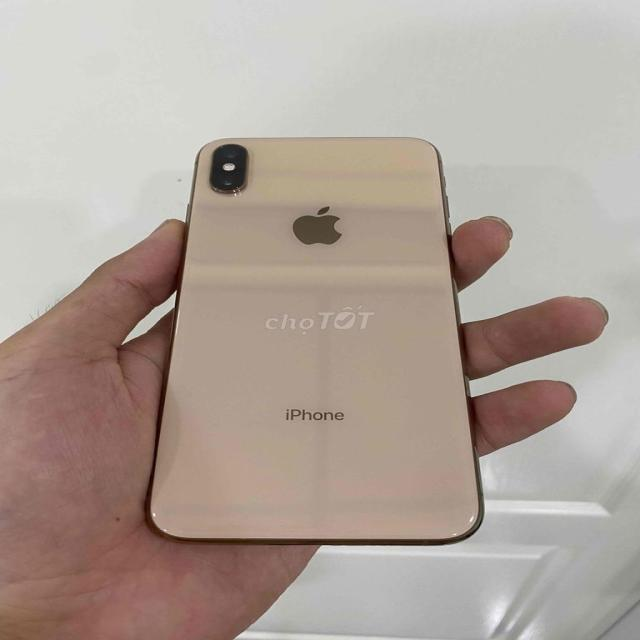gen_x_xs: (142, 127, 488, 558)
